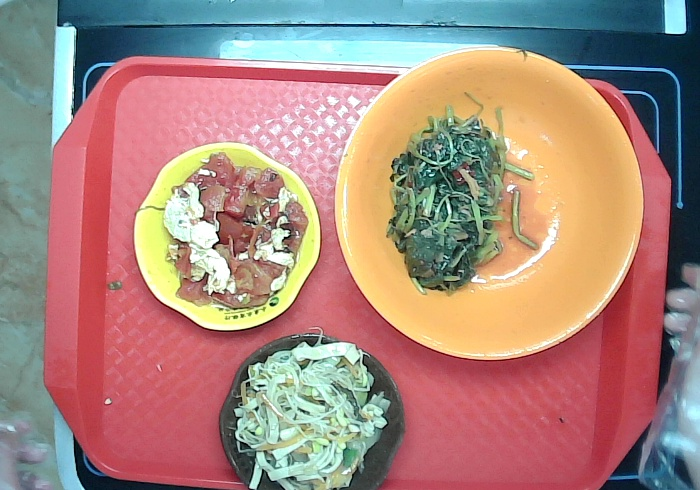YKMZ-Huang_Se_Ao_Bian_Wan: (132, 141, 322, 333)
YKMZ-Ju_Se_Tang_Wan: (336, 43, 645, 362)
YKMZ-Ka_Fei_Ao_Bian_Wan: (219, 331, 406, 490)
